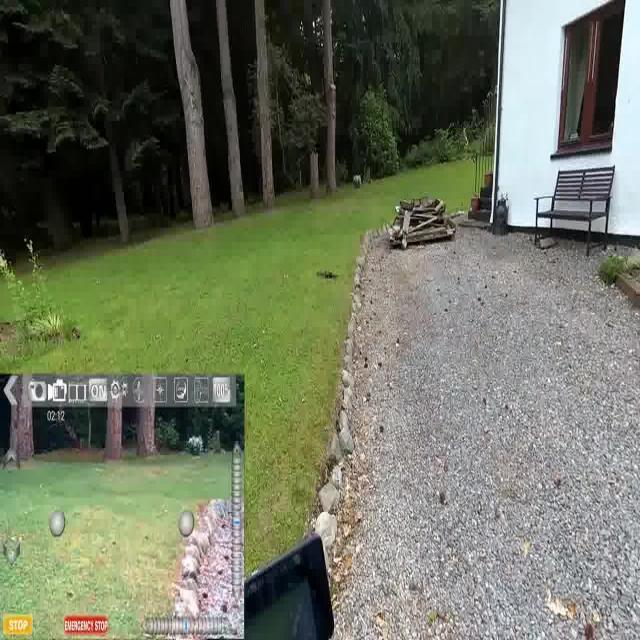drones: (309, 252, 342, 292)
